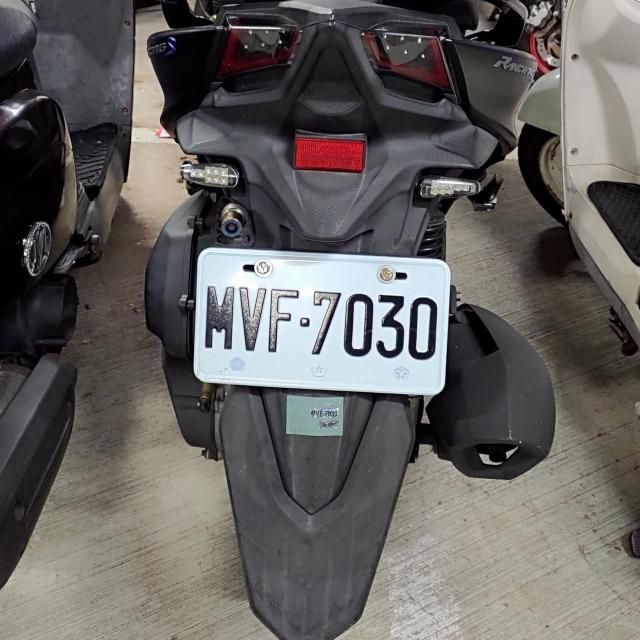W: (190, 244, 451, 394)
